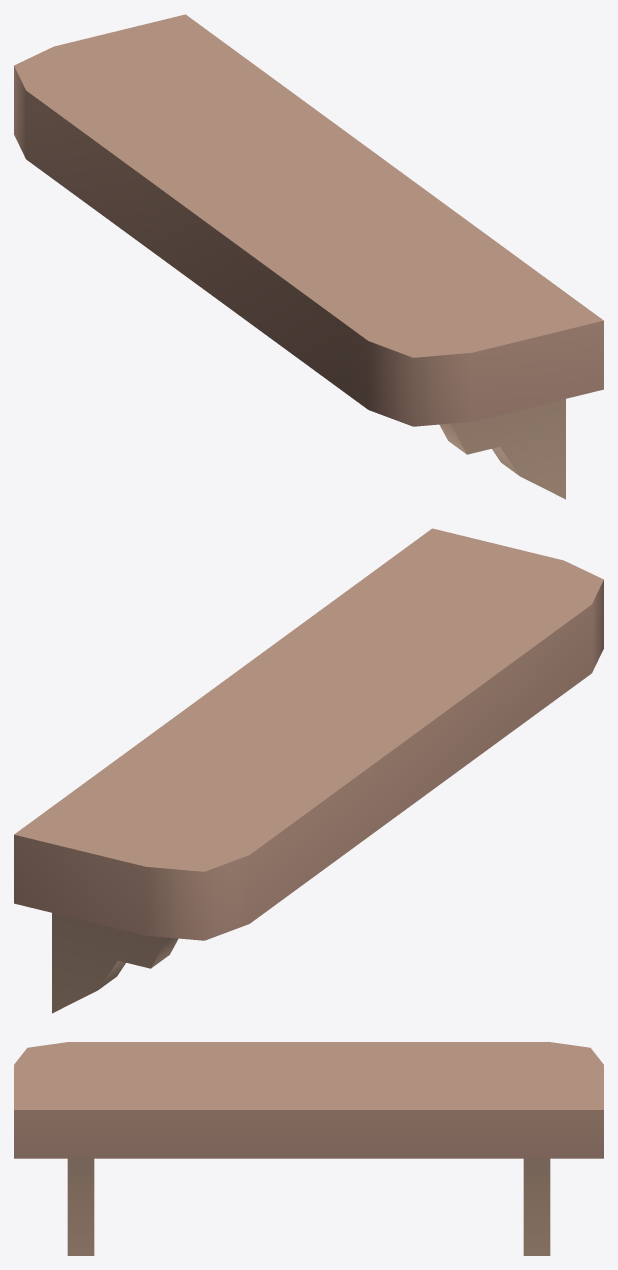
File: shelf-old-fashioned-long (%wall).glb
3 renders of one model, top to bottom at view 1: azimuth 30°, elevation 25°; view 2: azimuth 150°, elevation 25°; view 3: azimuth 270°, elevation 25°, orthographic. The views are drawn at different scales.
Parts seen in each view (by area): view 1: shelf-old-fashioned-long (%wall); view 2: shelf-old-fashioned-long (%wall); view 3: shelf-old-fashioned-long (%wall).
Part boxes in pixels (x1,y1,x2,y2): shelf-old-fashioned-long (%wall): [14, 14, 603, 499]; shelf-old-fashioned-long (%wall): [14, 528, 603, 1013]; shelf-old-fashioned-long (%wall): [14, 1042, 603, 1255].
Bounding box in the file's own units: 0.3 × 0.3 × 1.1.
